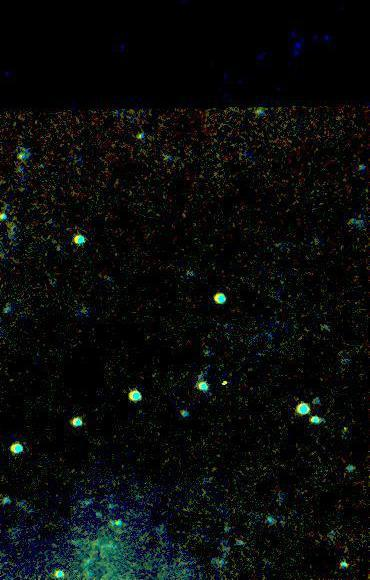star: (208, 370, 238, 400)
